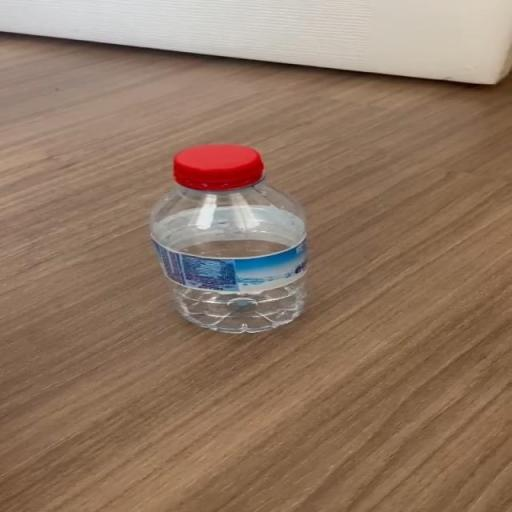plastic: (148, 144, 309, 337)
